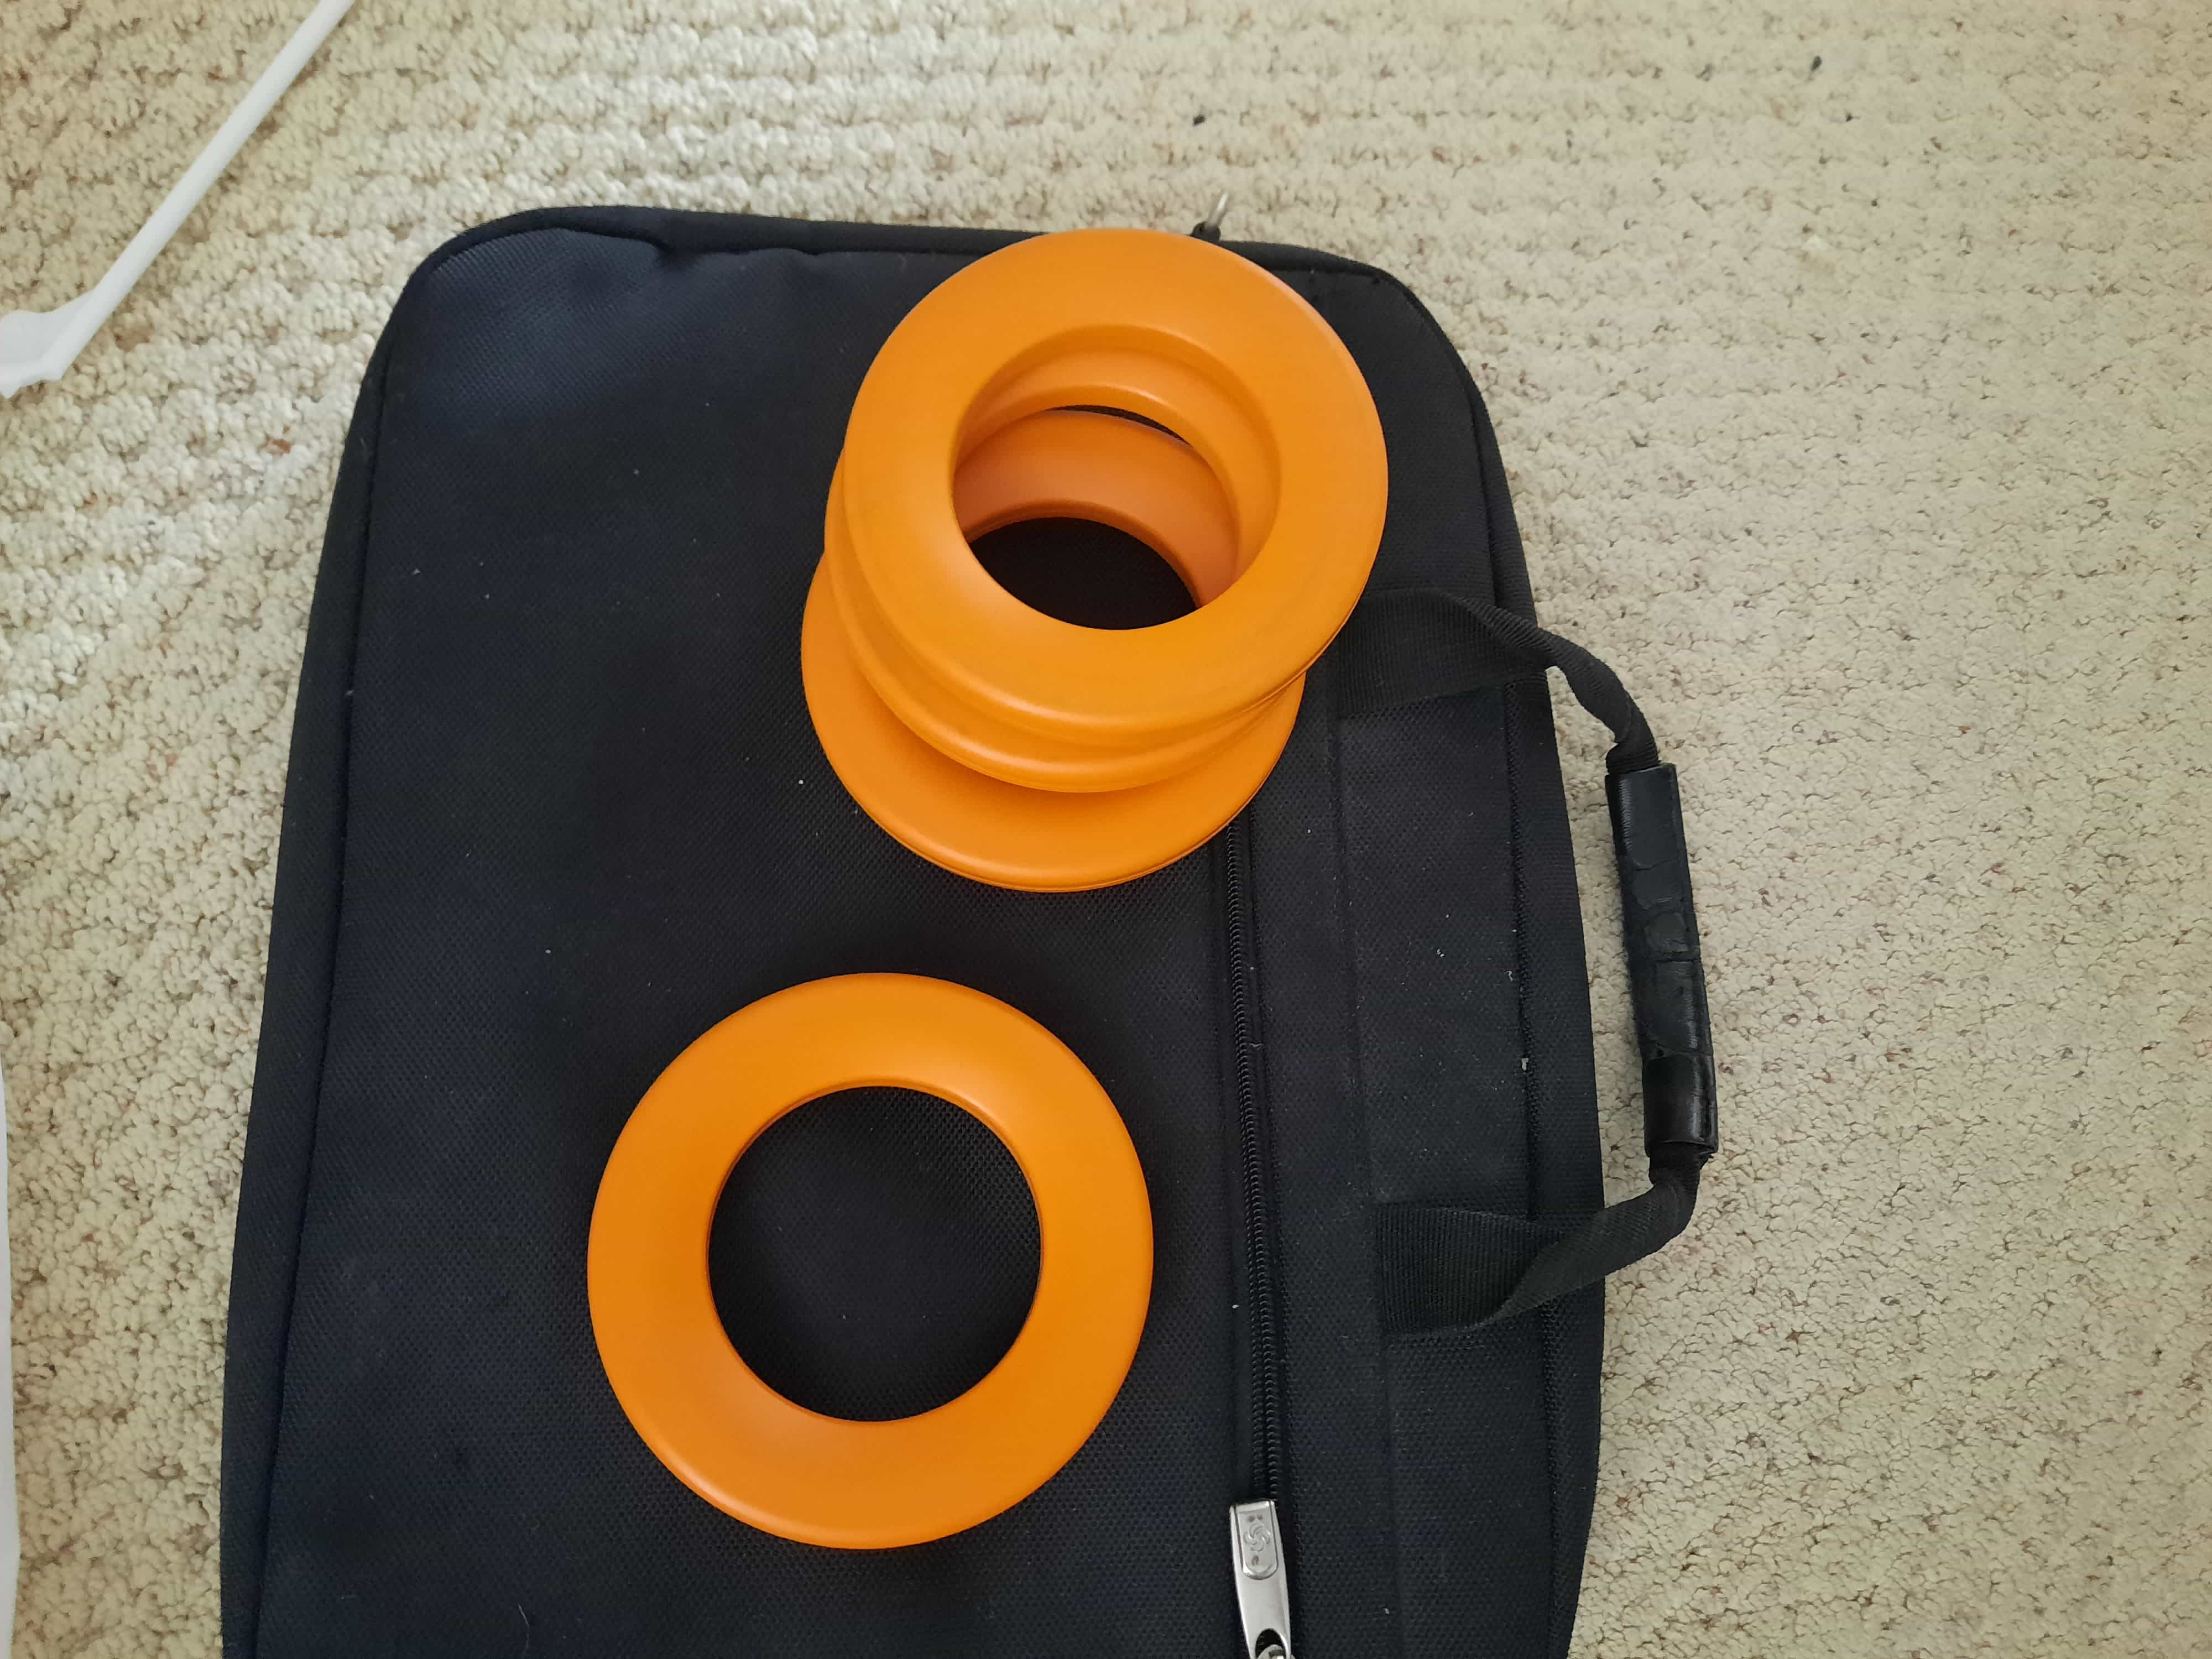FourStack: (799, 247, 1390, 890)
OneStack: (583, 974, 1155, 1551)
